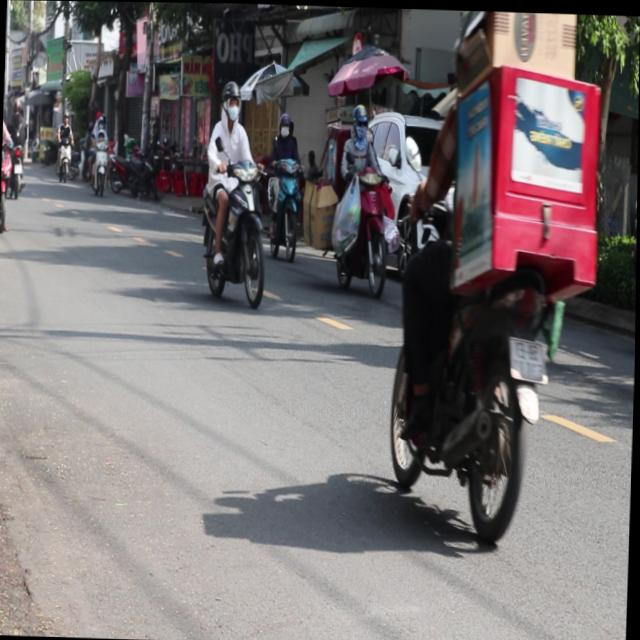helmet: (221, 77, 242, 121), (278, 109, 293, 135)
licenseplate: (381, 6, 603, 552), (196, 75, 272, 307), (264, 108, 307, 259)
nohelmet: (507, 334, 550, 380)
